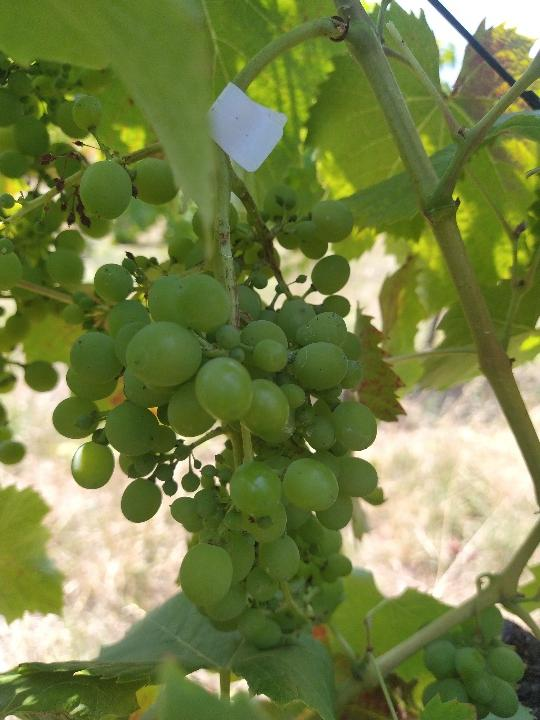grape: (47, 94, 381, 655)
